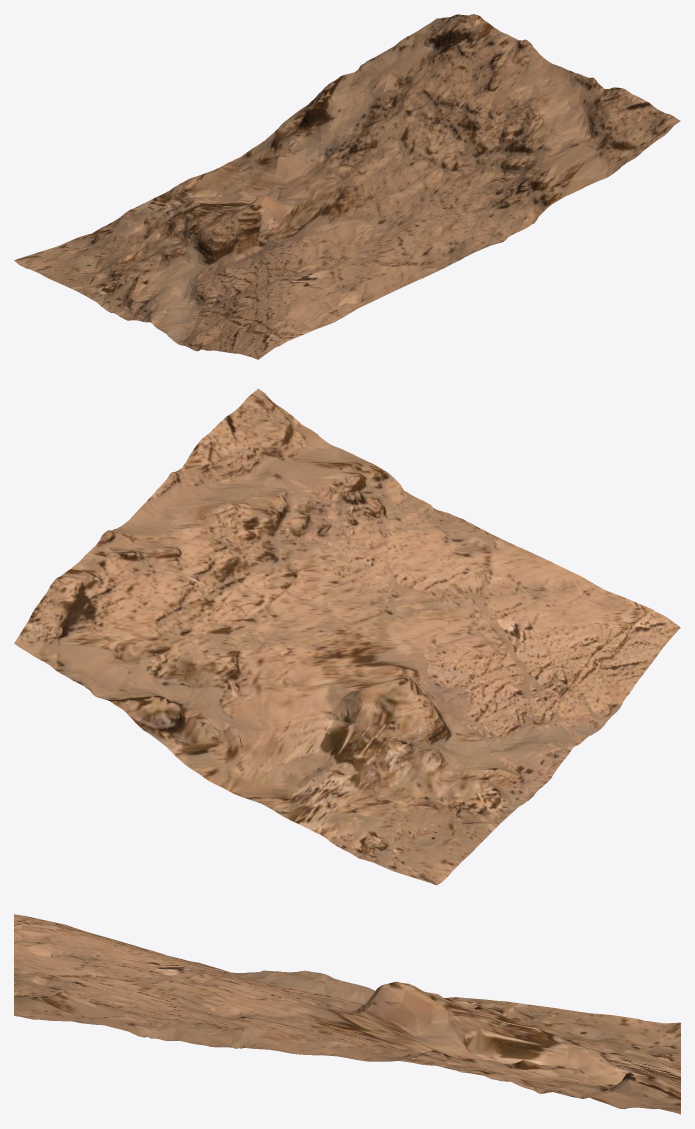
3 views of the same model, one above another, from view 1: azimuth 30°, elevation 25°; view 2: azimuth 150°, elevation 25°; view 3: azimuth 270°, elevation 25° (orthographic). The views are drawn at different scales.
Bounding box in the file's own units: 4.18 × 2.04 × 4.18.
Materials: 3 (3 with a texture image).
